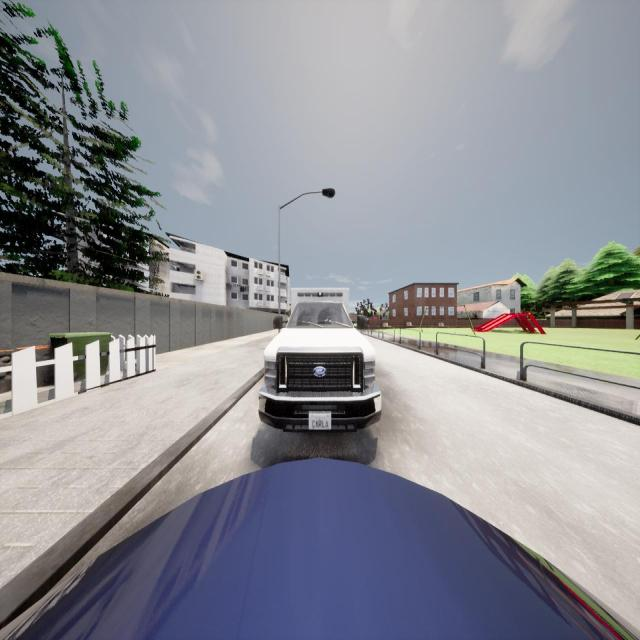Vehicle: (0, 457, 640, 640), (259, 288, 382, 433)
